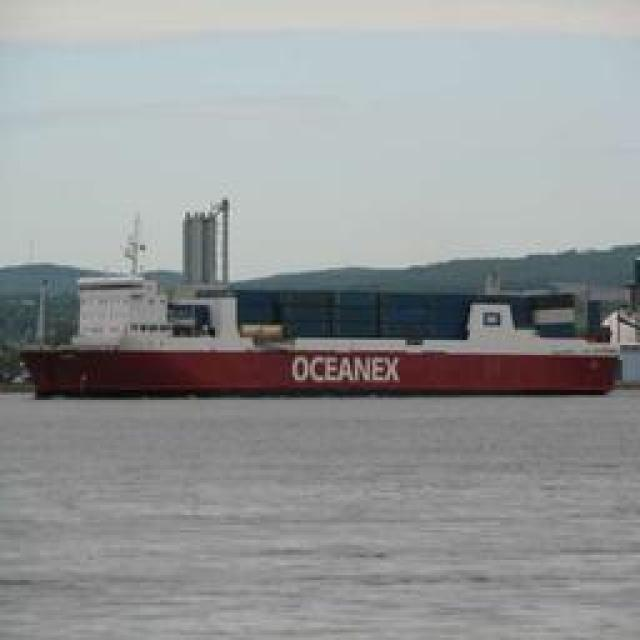CIV_Ship: (16, 260, 616, 400)
